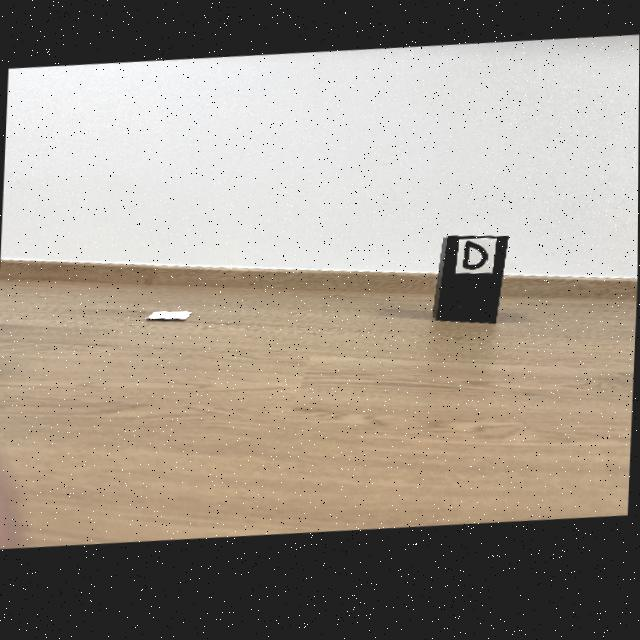D: (464, 249, 487, 279)
